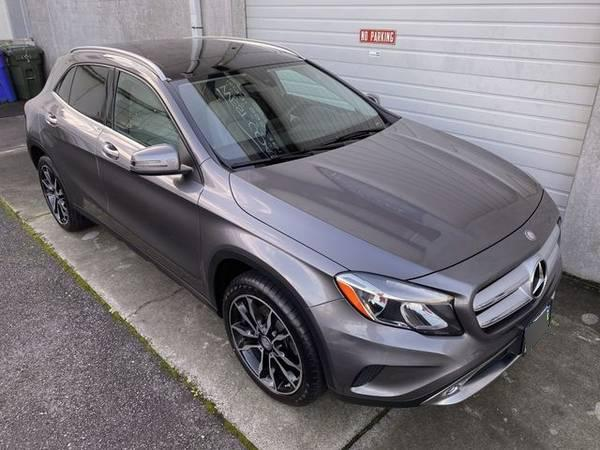Front_Bumper: (306, 267, 562, 403)
Front_Fender: (198, 157, 346, 311)
Front_Right_Door: (94, 129, 208, 301)
Front_Right_Window: (102, 64, 198, 179)
Front_Windshield: (172, 61, 393, 168)
Grille: (466, 207, 563, 326)
Hood: (233, 116, 557, 288)
Rear_Fender: (22, 92, 42, 152)
Rear_Right_Door: (36, 91, 103, 221)
Rear_Right_Window: (48, 62, 110, 124)
Right_Headlight: (335, 269, 464, 333)
Roof: (46, 34, 306, 165)
Wheel: (222, 279, 326, 406), (38, 159, 70, 223)
